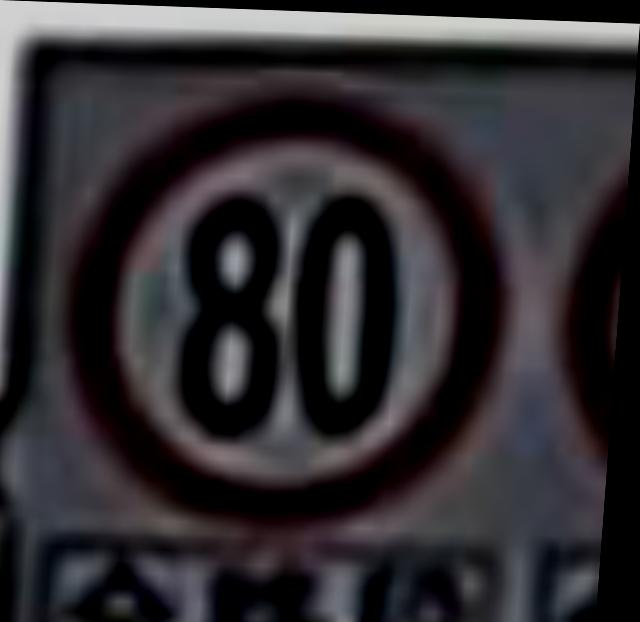limit80: (66, 67, 527, 527)
